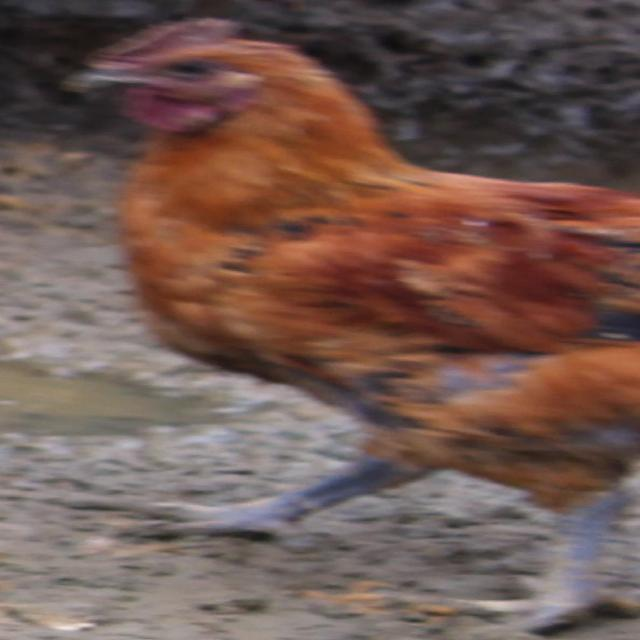hen: (73, 19, 639, 535)
